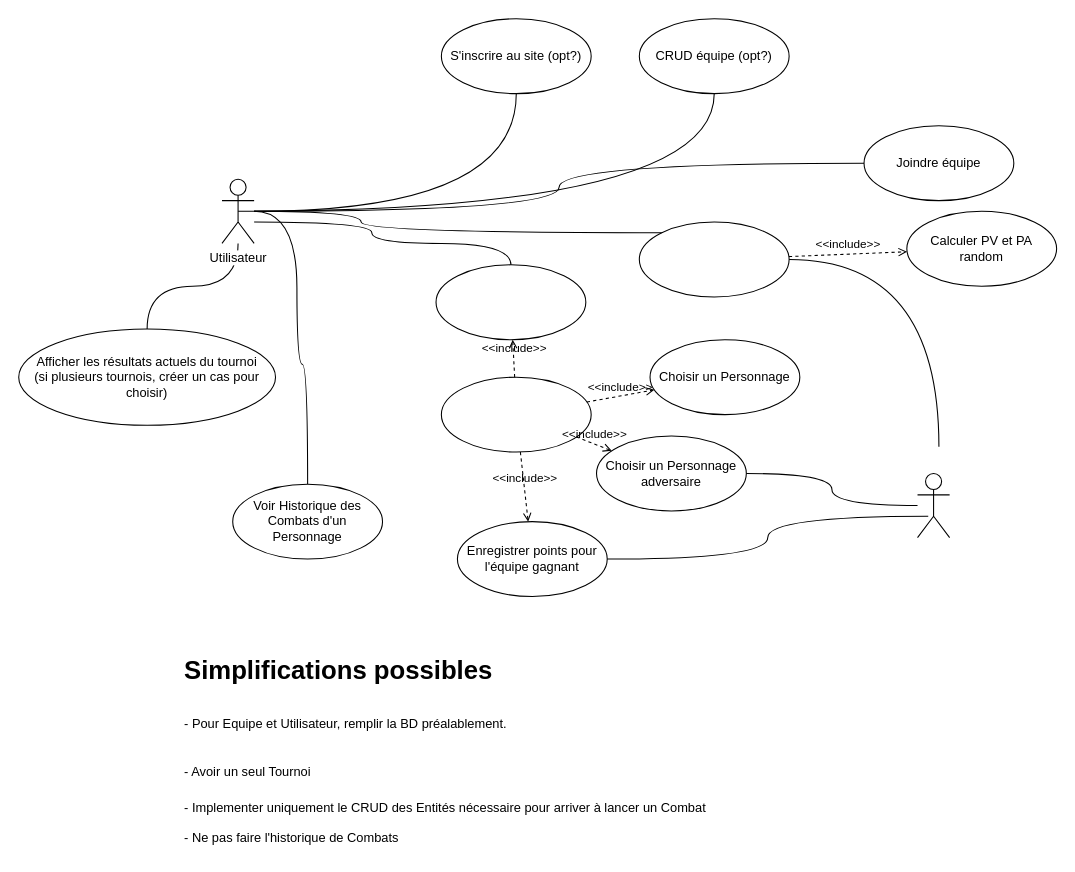
The diagram is 1075 pixels wide and 872 high, and some of its shapes have lost their labels. Each missing label, with the box of its shape:
Créer Personnage: (638, 221, 789, 297)
Lancer combat: (440, 376, 591, 452)
S'inscrire au tournoi: (435, 264, 586, 340)
Système: (916, 472, 950, 538)
